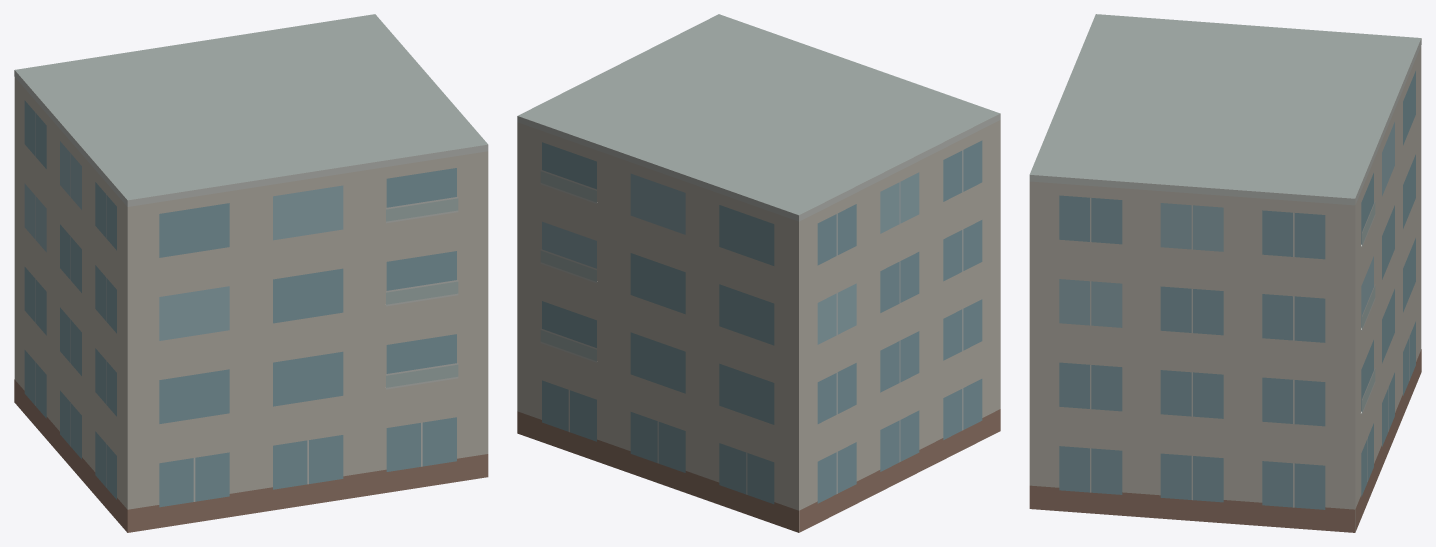
The model's file is residential-ea168b7f-28fa-40f7-8f85-008659b009fe.glb.
3 views of the same model, side by side, from view 1: azimuth 30°, elevation 25°; view 2: azimuth 150°, elevation 25°; view 3: azimuth 270°, elevation 25° (orthographic). The views are drawn at different scales.
Visible parts, largest first — view 1: residential-ea168b7f-28fa-40f7-8f85-008659b009fe.tmp; view 2: residential-ea168b7f-28fa-40f7-8f85-008659b009fe.tmp; view 3: residential-ea168b7f-28fa-40f7-8f85-008659b009fe.tmp.
Boxes of the visible parts, x1,y1,x2,y2 form: residential-ea168b7f-28fa-40f7-8f85-008659b009fe.tmp: (14, 14, 488, 532); residential-ea168b7f-28fa-40f7-8f85-008659b009fe.tmp: (517, 14, 1000, 532); residential-ea168b7f-28fa-40f7-8f85-008659b009fe.tmp: (1029, 14, 1421, 532).
Size of the model in its own units: 14.48 by 12.2 by 12.98.
